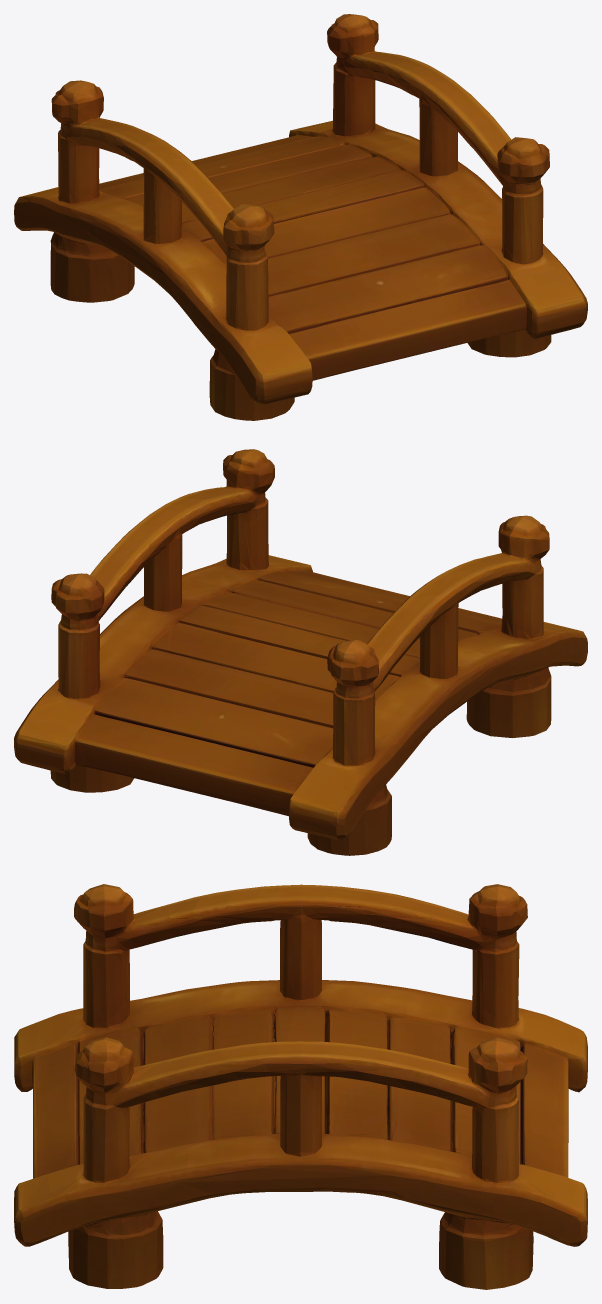
Rendered from small_bridge.glb.
The picture shows the model from 3 angles, top to bottom: view 1: azimuth 30°, elevation 25°; view 2: azimuth 150°, elevation 25°; view 3: azimuth 270°, elevation 25°; orthographic projection. The views are drawn at different scales.
Visible parts, largest first — view 1: geometry_0; view 2: geometry_0; view 3: geometry_0.
Part boxes in pixels (bbox=[...]): geometry_0: bbox=[14, 14, 587, 420]; geometry_0: bbox=[14, 449, 587, 855]; geometry_0: bbox=[14, 884, 587, 1289].
Size of the model in its own units: 0.7704 by 0.4495 by 0.9998.
Materials: 1 (1 with a texture image).
